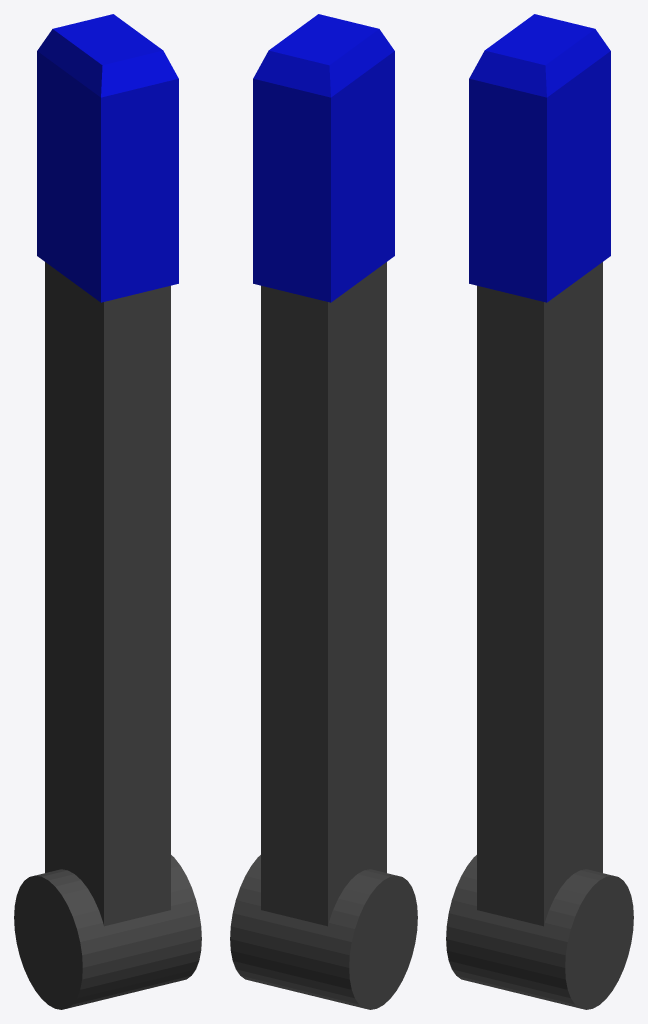
File: BlueLeverWOB.glb
3 views of the same model, side by side, from view 1: azimuth 30°, elevation 25°; view 2: azimuth 150°, elevation 25°; view 3: azimuth 330°, elevation 25° (orthographic).
Parts seen in each view (by area): view 1: Handle, Top; view 2: Handle, Top; view 3: Handle, Top.
Part boxes in pixels (x1=…): Handle: x1=14, y1=262, x2=201, y2=1009; Top: x1=37, y1=14, x2=178, y2=302; Handle: x1=230, y1=262, x2=417, y2=1009; Top: x1=253, y1=14, x2=394, y2=302; Handle: x1=446, y1=262, x2=633, y2=1009; Top: x1=469, y1=14, x2=610, y2=302.
Size of the model in its own units: 0.1393 by 1.06 by 0.1393.
